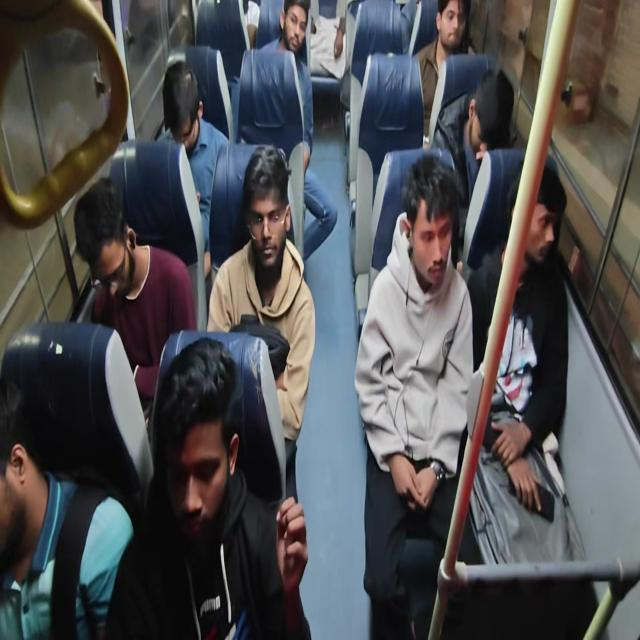person: (104, 336, 312, 639), (354, 152, 475, 638), (462, 160, 584, 565), (206, 144, 316, 504), (0, 378, 135, 638), (73, 176, 197, 422), (258, 0, 338, 261), (430, 68, 514, 257), (156, 59, 229, 275), (412, 0, 478, 140), (308, 0, 347, 79), (259, 0, 310, 55)
